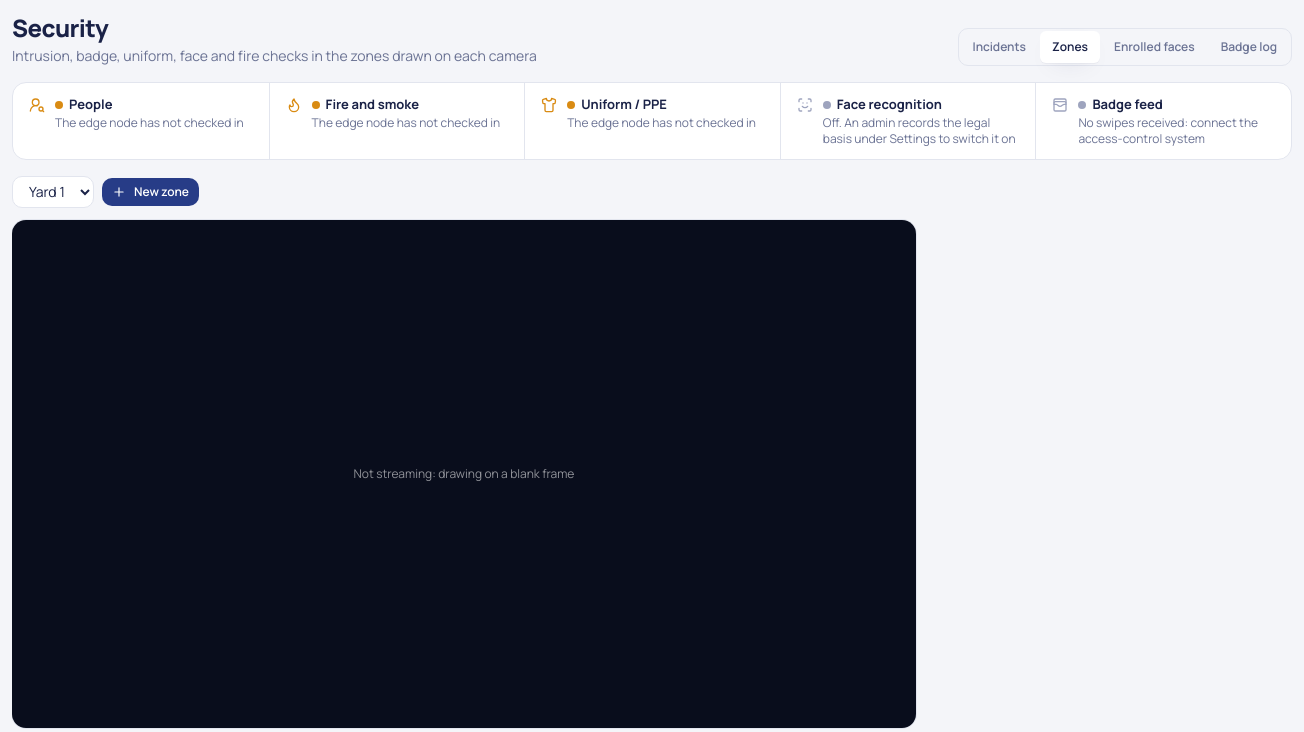
security › marks rules inactive when nothing can check them
Click the button "New zone" at (150, 192), box [102,178,199,206]
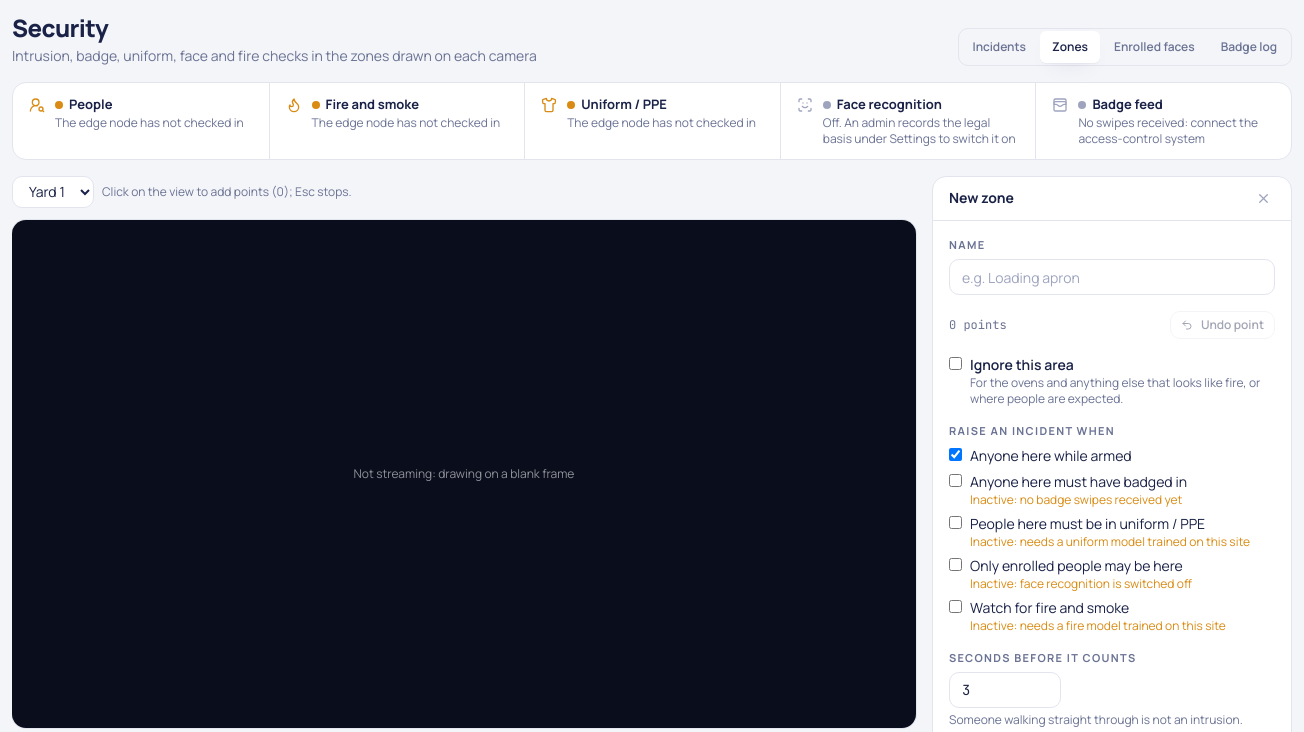
Expected: the text "Inactive: face recognition is switched off" is shown, [970,576,1192,592]
Expected: the text "Inactive: needs a fire model trained on this site" is shown, [970,618,1226,634]
